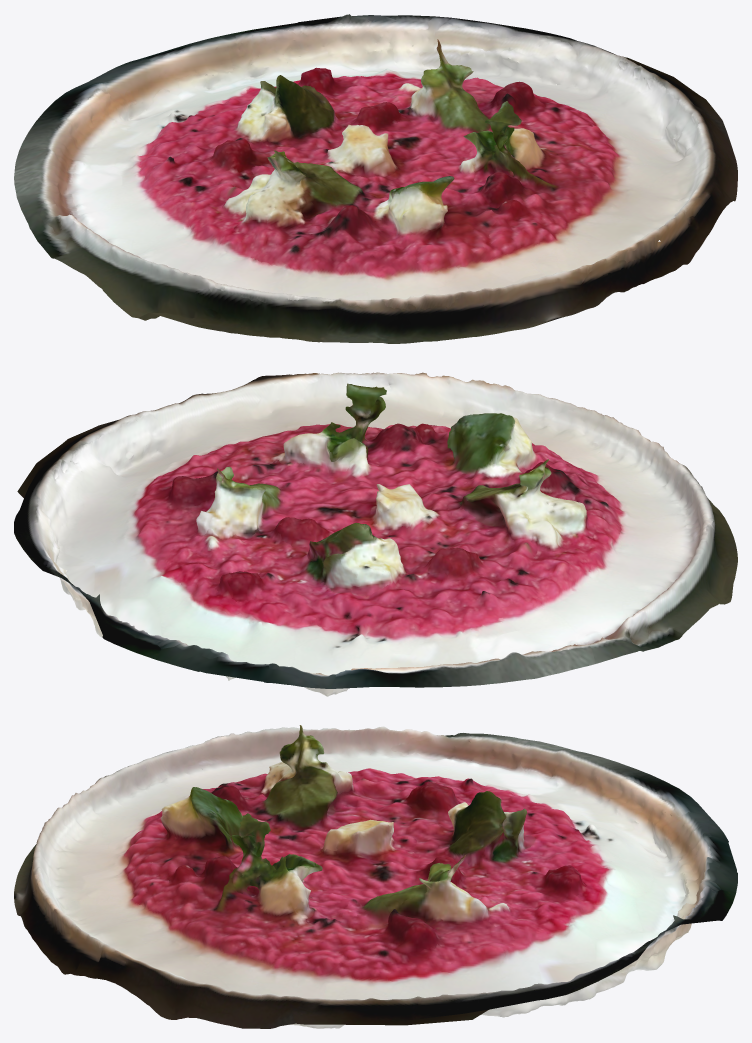
The model's file is risotto.glb.
3 renders of one model, top to bottom at view 1: azimuth 30°, elevation 25°; view 2: azimuth 150°, elevation 25°; view 3: azimuth 270°, elevation 25°, orthographic.
Parts seen in each view (by area): view 1: Object_3, Object_2; view 2: Object_3, Object_2; view 3: Object_2, Object_3.
Part boxes in pixels (x1,y1,x2,y2): Object_3: (14, 14, 737, 343); Object_2: (45, 14, 734, 336); Object_3: (14, 372, 737, 694); Object_2: (17, 373, 732, 696); Object_2: (14, 725, 721, 1028); Object_3: (14, 725, 737, 1028).
Bounding box in the file's own units: 0.329 × 0.0635 × 0.3233.
Materials: 1 (1 with a texture image).
